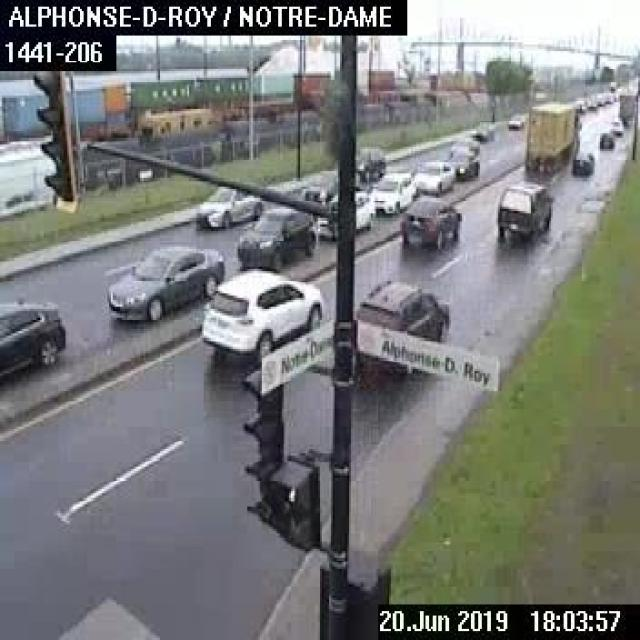vehicle: (202, 262, 328, 364), (104, 237, 224, 325), (358, 276, 449, 374), (0, 298, 65, 380), (236, 202, 319, 264), (523, 102, 579, 174), (395, 192, 461, 250), (495, 181, 552, 242), (192, 180, 263, 226), (312, 188, 371, 238), (368, 170, 412, 213), (408, 157, 454, 196), (300, 167, 335, 202), (446, 146, 479, 180), (354, 146, 383, 183), (448, 134, 478, 155), (618, 91, 636, 124), (571, 147, 592, 175), (470, 119, 492, 140), (504, 110, 522, 130), (598, 130, 612, 148), (608, 118, 621, 136)
